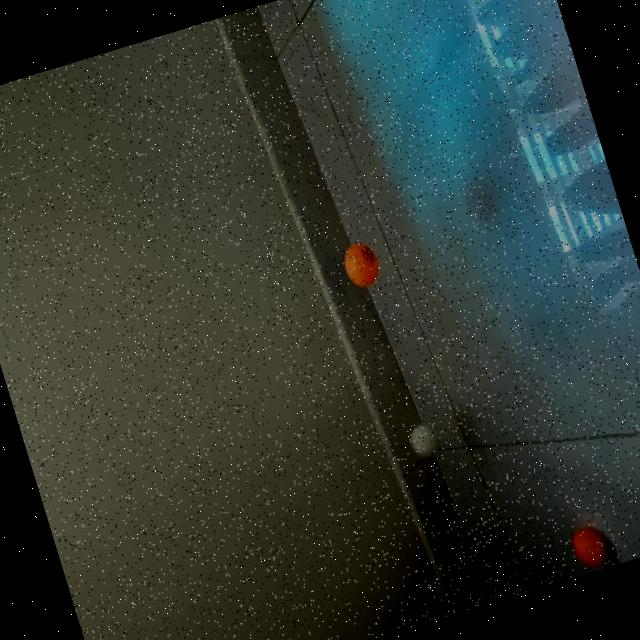ping-pong-ball: (338, 239, 382, 292), (566, 524, 610, 574), (408, 422, 438, 460)
